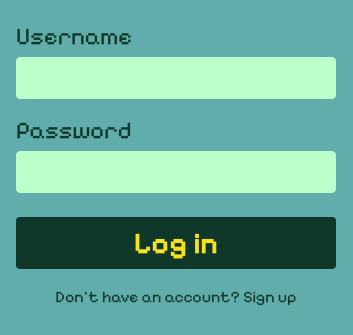
Scenario: Login Component › displays error message on failed login
Type "wronguser" into the field labelled "Username" at x=176, y=78, box [16,57,336,99]
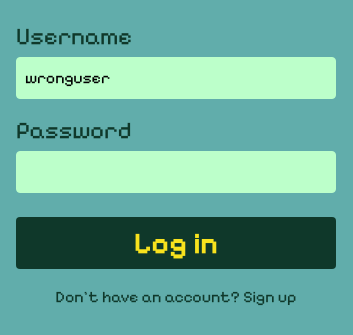
Type "wrongpassword" into the password field labelled "Password" at x=176, y=172, box [16,151,336,193]
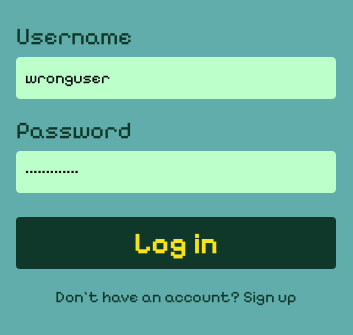
Click the button "Log in" at x=176, y=243, box [16,217,336,269]
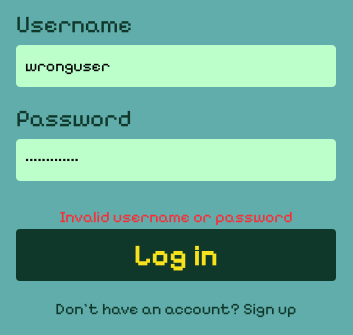
Now the text "Invalid username or password" is shown, box [59,207,293,226]
